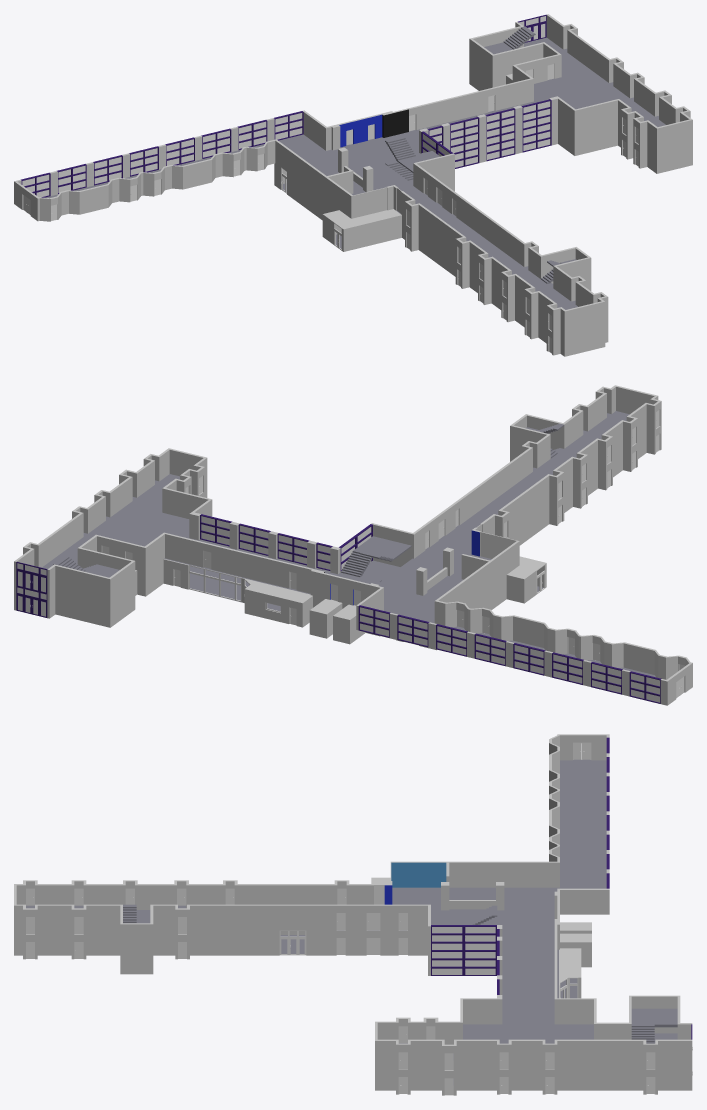
The model's file is F0F1Elevators.fbx.
3 views of the same model, one above another, from view 1: azimuth 30°, elevation 25°; view 2: azimuth 150°, elevation 25°; view 3: azimuth 270°, elevation 25° (orthographic). The views are drawn at different scales.
Visible parts, largest first — view 1: WallsF1, WallsF0, FloorF1, StairsF1.2, StairsF1.3; view 2: WallsF1, FloorF1, WallsF0, StairsF1.2, FloorF0, Elevator2, Elevator1, StairsF1.3, StairsF0.2; view 3: WallsF1, FloorF1, WallsF0, StairsF1.3, WindowBigF0.000, Elevator2, StairsF1.2, WindowBigF0.005, FloorF0.
Boxes of the visible parts, <box> form: WallsF1: <box>14,14,692,333</box>; WallsF0: <box>274,61,692,356</box>; FloorF1: <box>45,37,665,309</box>; StairsF1.2: <box>385,136,439,172</box>; StairsF1.3: <box>484,26,535,54</box>; WallsF1: <box>14,385,692,705</box>; FloorF1: <box>42,411,655,677</box>; WallsF0: <box>14,425,661,650</box>; StairsF1.2: <box>340,536,411,576</box>; FloorF0: <box>190,486,609,611</box>; Elevator2: <box>309,599,342,638</box>; Elevator1: <box>333,604,365,644</box>; StairsF1.3: <box>53,556,119,577</box>; StairsF0.2: <box>360,560,400,581</box>; WallsF1: <box>14,734,692,1070</box>; FloorF1: <box>26,759,606,1060</box>; WallsF0: <box>14,877,692,1095</box>; StairsF1.3: <box>631,1008,677,1043</box>; WindowBigF0.000: <box>431,925,496,951</box>; Elevator2: <box>560,933,591,967</box>; StairsF1.2: <box>431,905,497,937</box>; WindowBigF0.005: <box>431,951,496,975</box>; FloorF0: <box>280,935,577,1085</box>.
Size of the model in its own units: 8050 by 601 by 7410.
